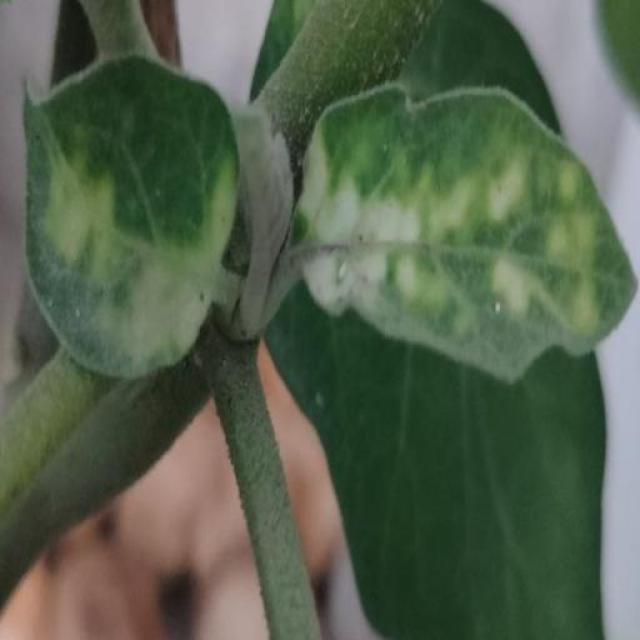leaf_spot: (116, 135, 232, 376), (457, 126, 554, 320), (531, 118, 604, 352), (324, 174, 416, 343), (396, 139, 490, 299), (36, 125, 114, 279), (279, 218, 354, 329), (296, 135, 346, 235)
